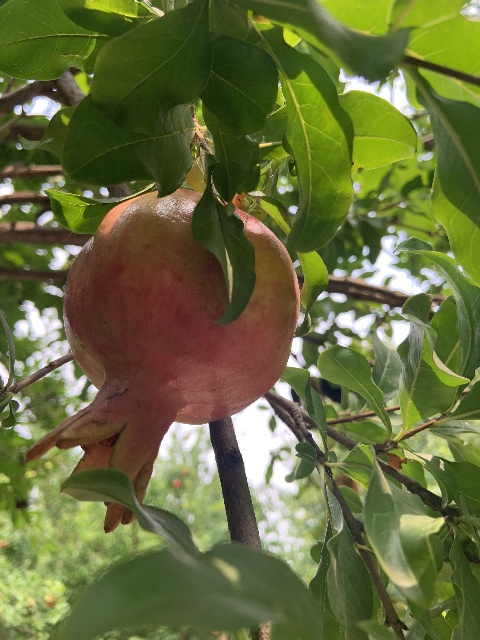ripe: (27, 188, 298, 540)
